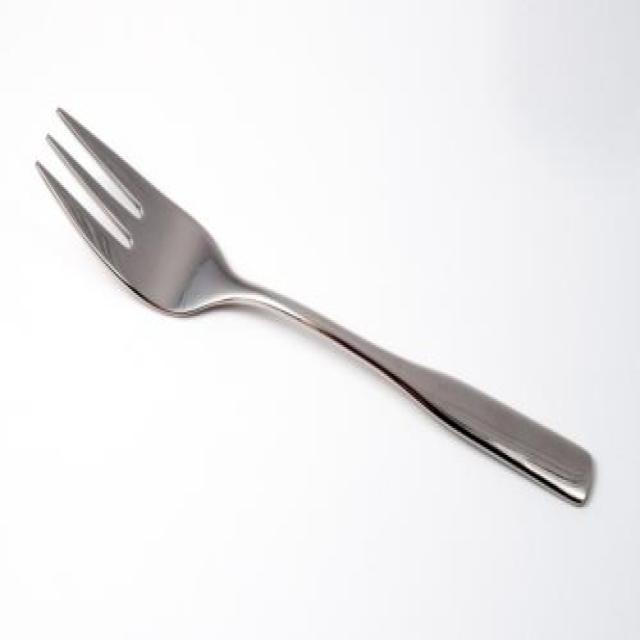spoon: (36, 109, 594, 504)
